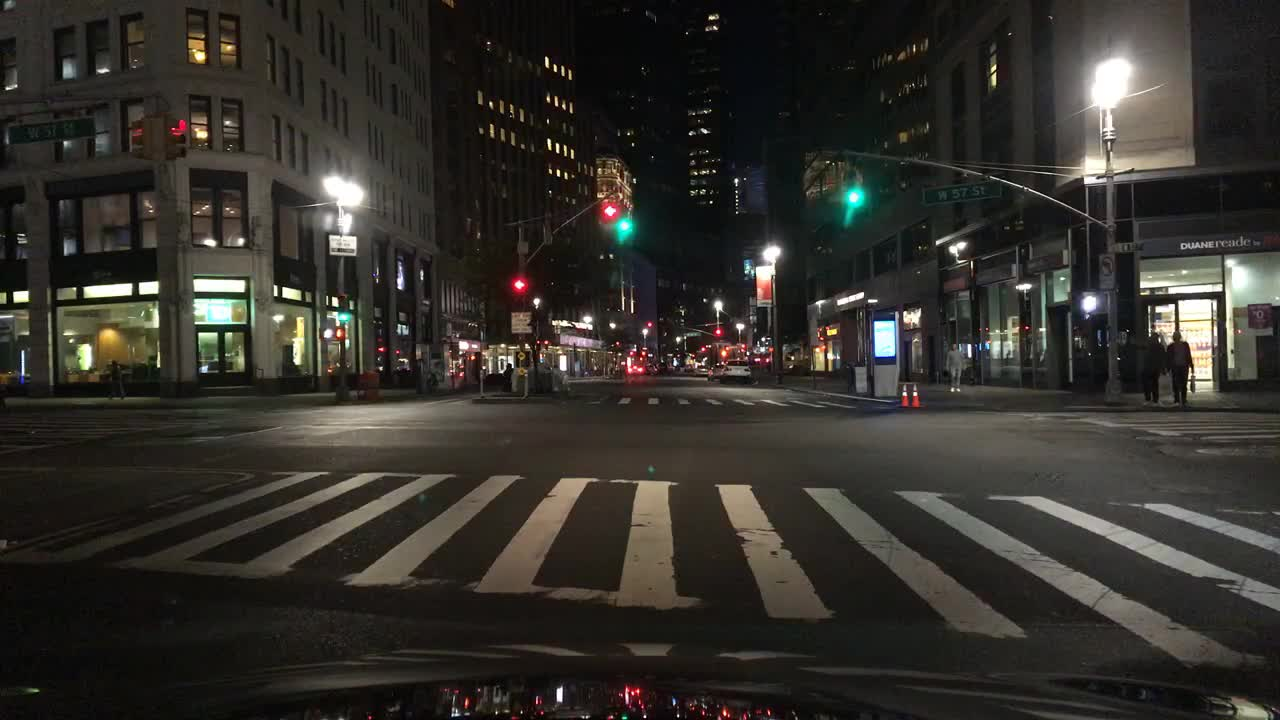car: (718, 358, 751, 381), (698, 353, 719, 375), (1, 372, 22, 393), (626, 358, 647, 378), (682, 356, 702, 375), (644, 358, 664, 376)
person: (1164, 330, 1198, 407), (1141, 329, 1163, 405), (943, 338, 966, 393), (105, 357, 125, 401)
traffic light: (163, 117, 188, 158), (128, 117, 149, 157), (844, 166, 862, 210), (1077, 290, 1105, 315), (601, 195, 618, 232), (619, 204, 632, 236), (337, 292, 351, 319), (513, 275, 526, 304), (334, 324, 345, 342), (321, 327, 337, 338), (715, 322, 724, 336), (647, 315, 656, 329)
traffic sign: (10, 114, 97, 141), (920, 178, 1000, 204), (1095, 255, 1118, 289), (1249, 304, 1270, 333), (331, 233, 358, 255), (512, 310, 532, 335), (1115, 241, 1141, 253), (687, 322, 702, 335)
